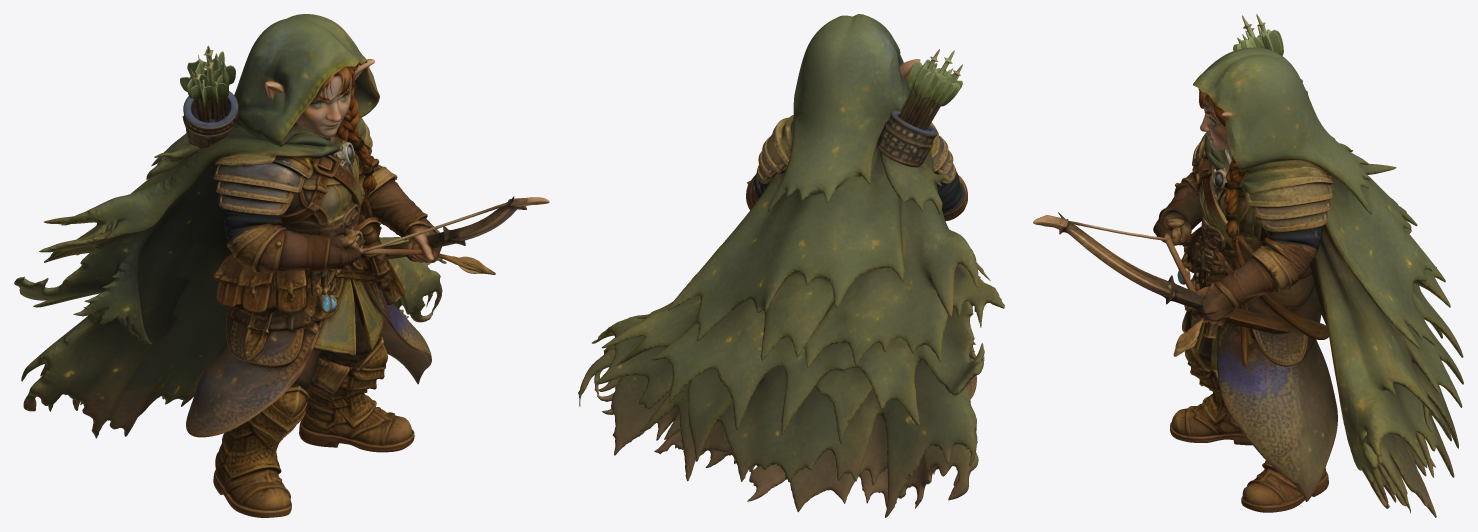
The model's file is halfling_ranger_full_female_01.glb.
The picture shows the model from 3 angles, left to right: view 1: azimuth 30°, elevation 25°; view 2: azimuth 150°, elevation 25°; view 3: azimuth 270°, elevation 25°; orthographic projection. The views are drawn at different scales.
Parts seen in each view (by area): view 1: material; view 2: material; view 3: material.
Part boxes in pixels (<box>): material: <box>14,14,549,517</box>; material: <box>578,14,1004,517</box>; material: <box>1033,14,1463,517</box>.
Size of the model in its own units: 0.8326 by 0.8405 by 0.7951.
1 material, 1 textured.
